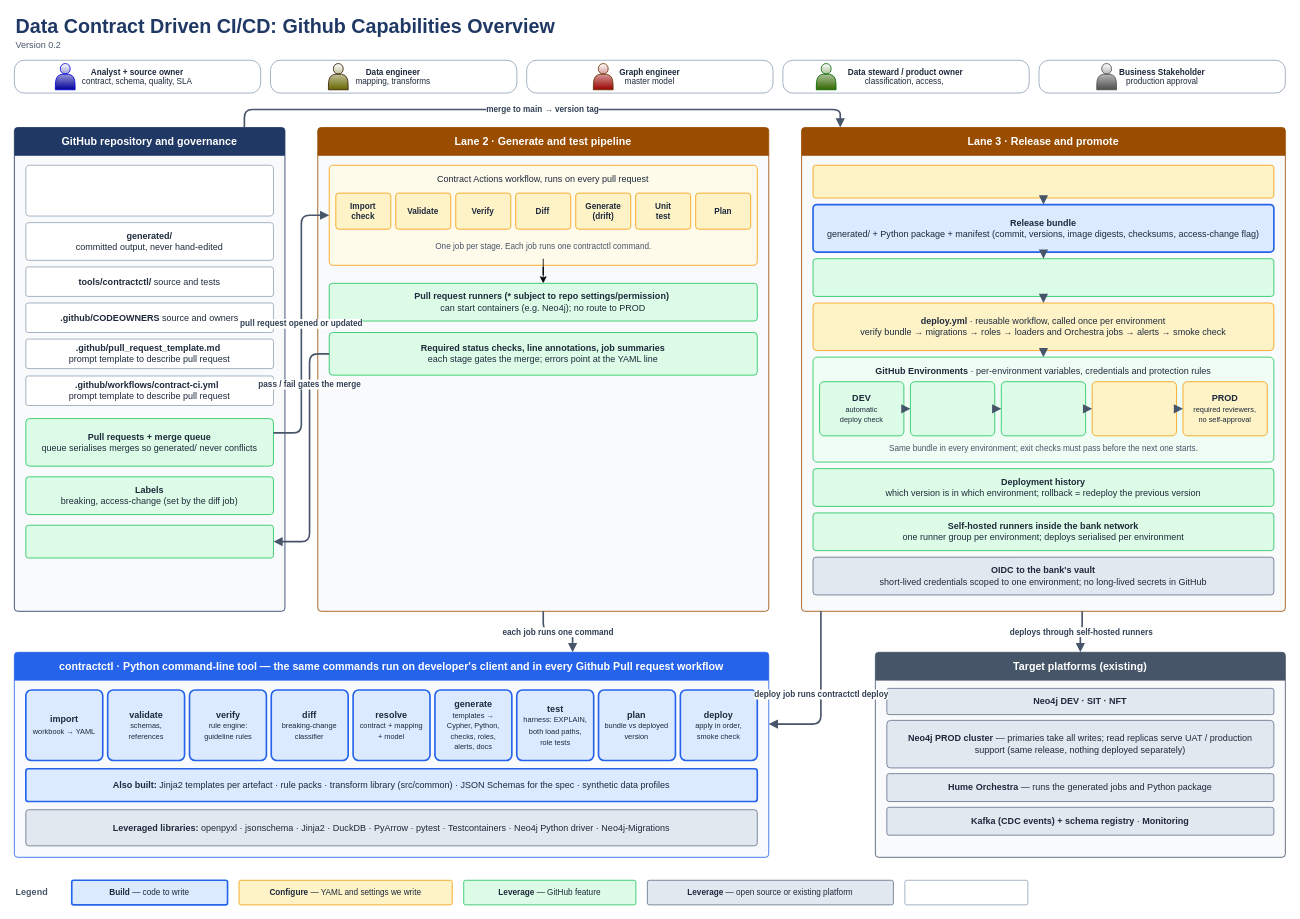
The diagram is 1300 pixels wide and 919 high, and some of its shapes have lost their labels. The centre of each missing label's shape, as x and y in pixels:
"GitHub Releases or the bank's artefact repository immutable store for bundles" belongs at point 1043,277.
"NFT automatic Day 0 rehearsal, reconciliation, load" belongs at point 1043,408.
"release.yml · on a version tag: build one bundle, assign migration numbers" belongs at point 1043,181.
"Repository content" belongs at point 966,892.
"Secret scanning, push protection, dependency alerts" belongs at point 149,541.
"SIT automatic integration tests" belongs at point 952,408.
"spec/ contract workbooks, imported YAML, master model, transform registry" belongs at point 149,190.
"Steward gate only if manifest flags an access change" belongs at point 1133,408.
